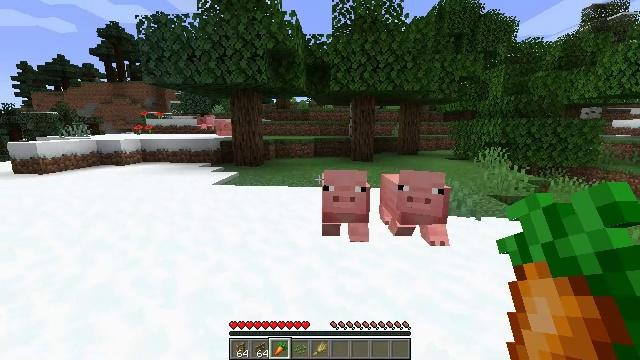pig: (379, 171, 453, 248), (321, 169, 370, 244), (214, 118, 231, 136), (197, 116, 215, 130)
